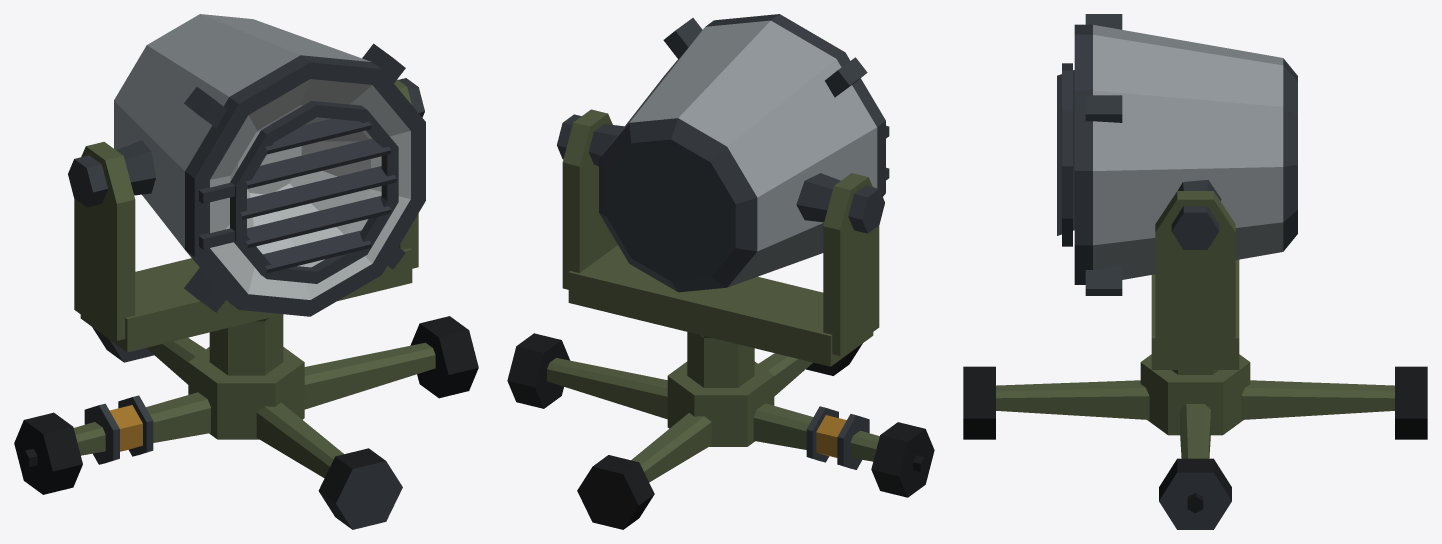
The model's file is anti-aircraft-searchlight-ba3f07.glb.
The picture shows the model from 3 angles, left to right: view 1: azimuth 30°, elevation 25°; view 2: azimuth 150°, elevation 25°; view 3: azimuth 270°, elevation 25°; orthographic projection. The views are drawn at different scales.
Parts seen in each view (by area): view 1: lamp-drum, pedestal-yoke, louvre-shutter, carriage, wheel-f-mesh, wheel-l-mesh, wheel-r-mesh, reel, wheel-b-mesh; view 2: lamp-drum, pedestal-yoke, carriage, wheel-b-mesh, wheel-l-mesh, wheel-r-mesh, reel, wheel-f-mesh; view 3: lamp-drum, carriage, pedestal-yoke, wheel-r-mesh, louvre-shutter, wheel-f-mesh, wheel-b-mesh.
Part boxes in pixels (<box>): lamp-drum: <box>114,14,425,316</box>; pedestal-yoke: <box>68,78,424,375</box>; louvre-shutter: <box>199,100,398,283</box>; carriage: <box>21,337,435,478</box>; wheel-f-mesh: <box>318,448,402,529</box>; wheel-l-mesh: <box>14,412,82,494</box>; wheel-r-mesh: <box>410,316,478,398</box>; reel: <box>84,395,153,464</box>; wheel-b-mesh: <box>92,327,153,362</box>; lamp-drum: <box>588,14,885,292</box>; pedestal-yoke: <box>557,109,884,387</box>; carriage: <box>547,353,928,482</box>; wheel-b-mesh: <box>577,455,654,529</box>; wheel-l-mesh: <box>871,422,934,497</box>; wheel-r-mesh: <box>507,333,570,408</box>; reel: <box>806,406,869,469</box>; wheel-f-mesh: <box>806,343,862,375</box>; lamp-drum: <box>1074,14,1297,295</box>; carriage: <box>996,354,1394,513</box>; pedestal-yoke: <box>1151,191,1239,374</box>; wheel-r-mesh: <box>1159,458,1231,529</box>; louvre-shutter: <box>1057,63,1074,246</box>; wheel-f-mesh: <box>963,366,995,439</box>; wheel-b-mesh: <box>1395,366,1427,439</box>.
Bounding box in the file's own units: 2.64 × 2.4 × 2.54.
